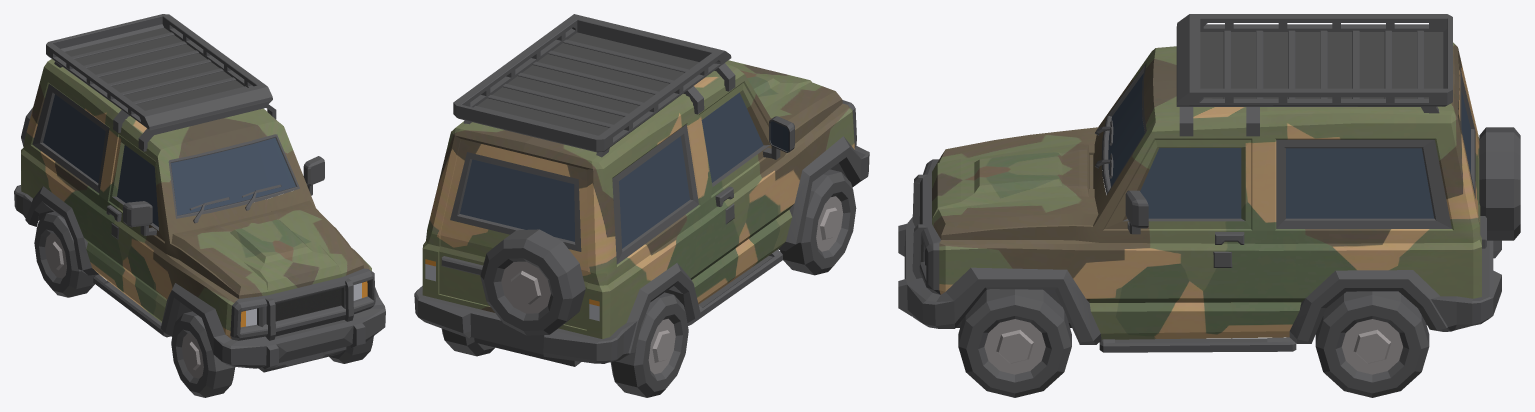
File: jeep.glb
The picture shows the model from 3 angles, left to right: view 1: azimuth 30°, elevation 25°; view 2: azimuth 150°, elevation 25°; view 3: azimuth 270°, elevation 25°; orthographic projection. The views are drawn at different scales.
Visible parts, largest first — view 1: _Mod_Jeep_01; view 2: _Mod_Jeep_01; view 3: _Mod_Jeep_01.
Part boxes in pixels (box(x1,y1,x2,y2)): _Mod_Jeep_01: box(14, 14, 385, 397); _Mod_Jeep_01: box(414, 14, 869, 397); _Mod_Jeep_01: box(898, 14, 1520, 397).
Bounding box in the file's own units: 2.22 × 2.42 × 4.64.
Materials: 1 (1 with a texture image).
